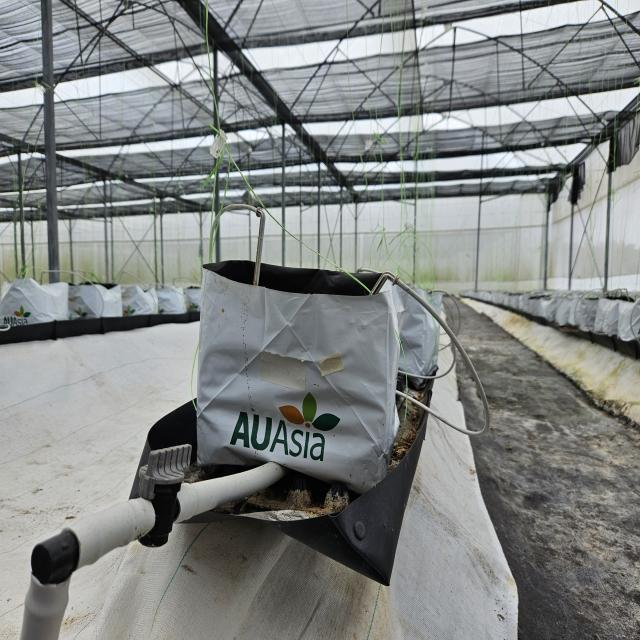Soilbag: (195, 261, 400, 497)
